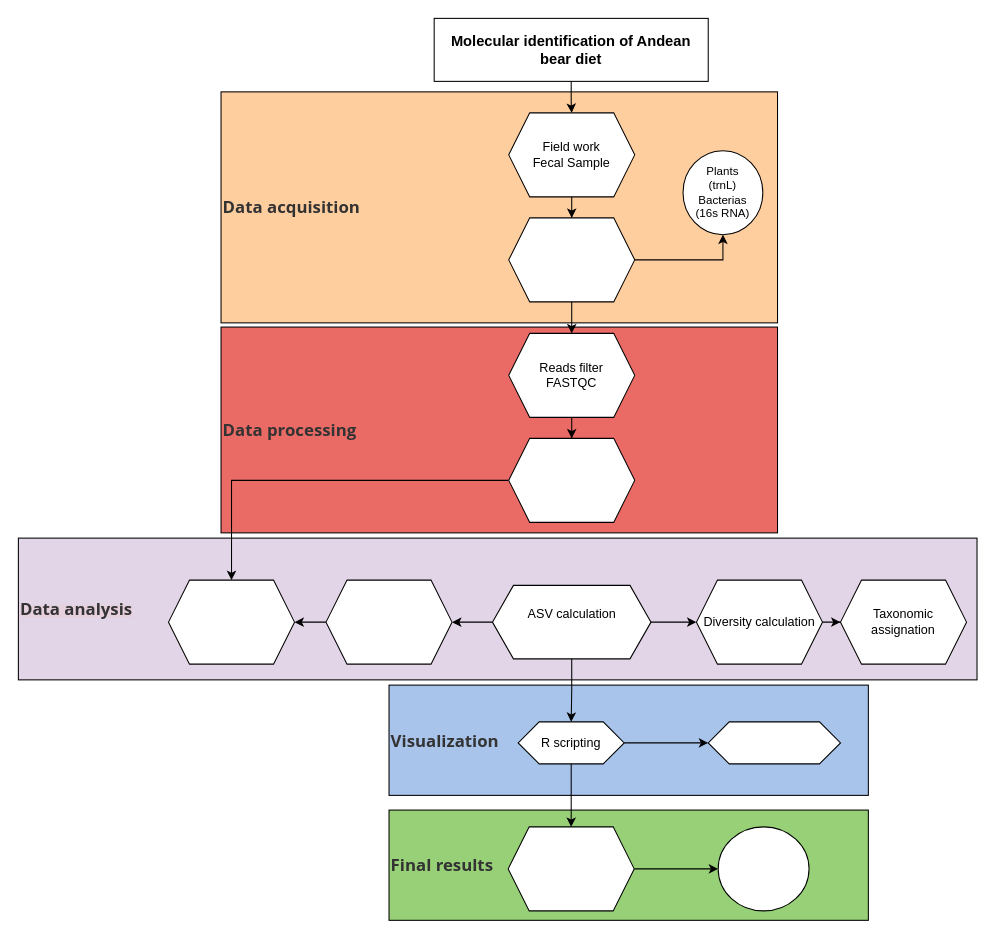
Some shapes in this 995 by 939 pixel diagram are drawn without their labels. The centre of each missing label's shape, as x and y in pixels:
Adapter remove Trimmomatic: point (571, 479)
DNA amplicon extraction: point (571, 259)
Illustrator editing: point (774, 742)
Journal publication: point (570, 868)
metadata in ENA: point (763, 868)
Quiime Abundance tables: point (388, 621)
Quiime Features making: point (231, 621)
